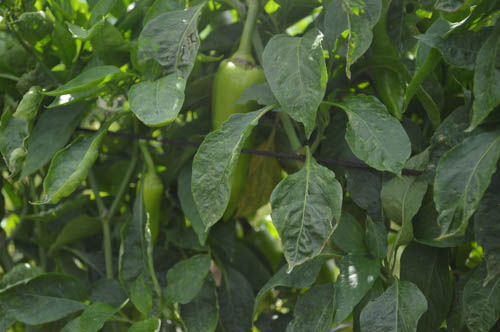ChiliPepper: (212, 58, 266, 225), (365, 22, 404, 118), (131, 181, 166, 241)
